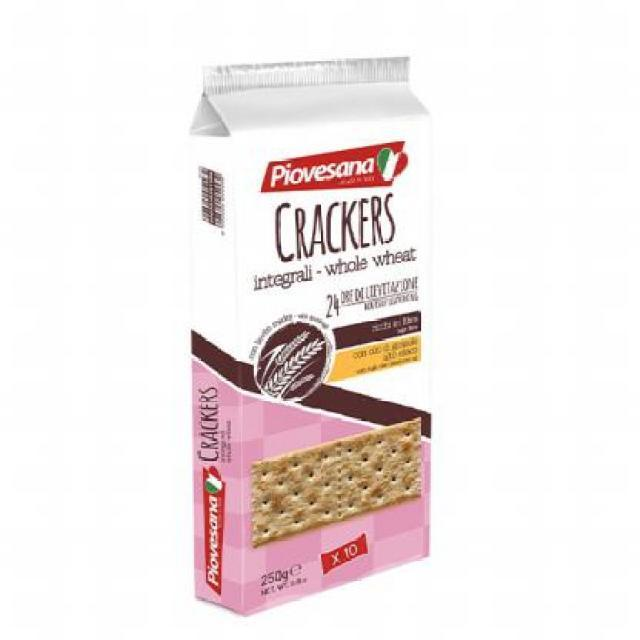Cracker: (170, 63, 441, 611)
